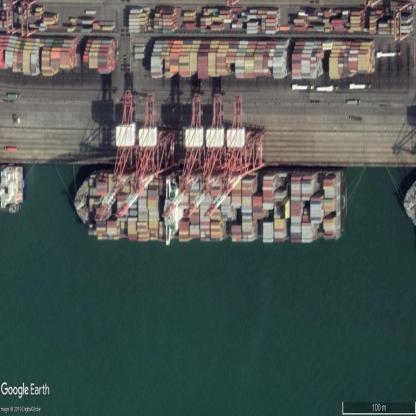ship: (74, 169, 348, 243)
